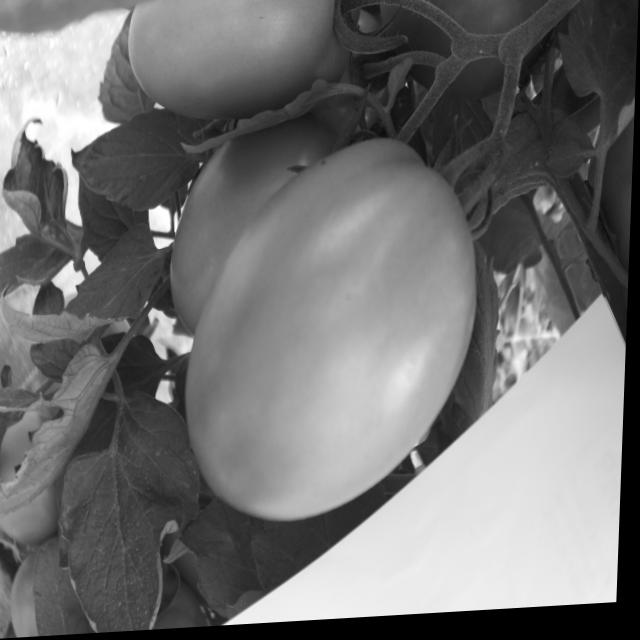yesil: (154, 106, 487, 514)
